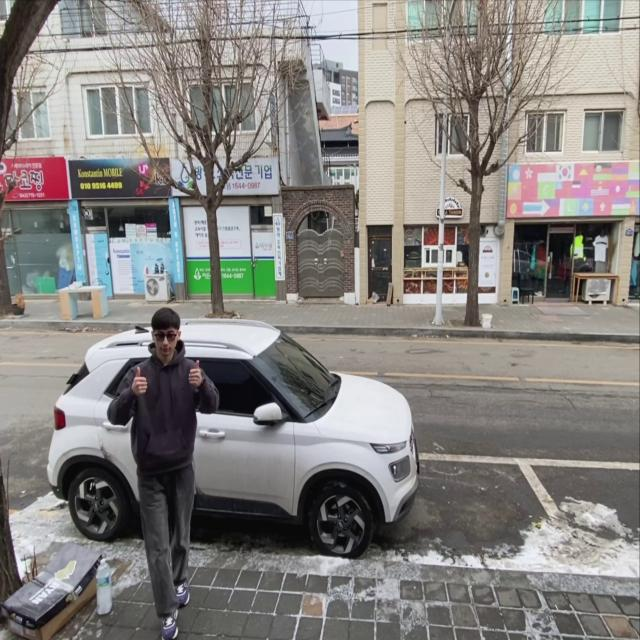bare_hand: (188, 358, 204, 389), (133, 366, 149, 396)
